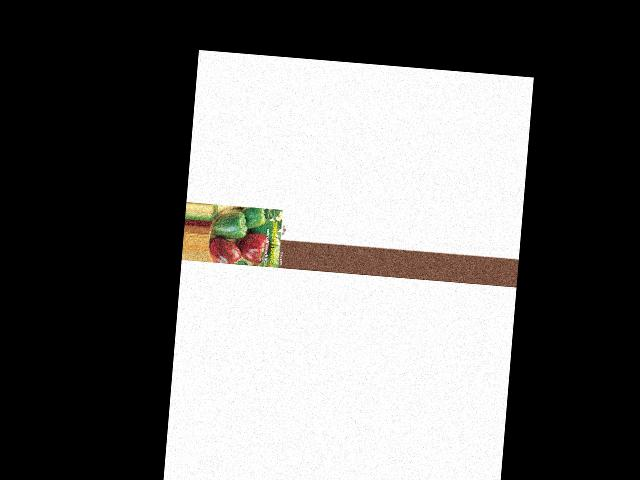bell_pepper: (236, 204, 268, 227)
